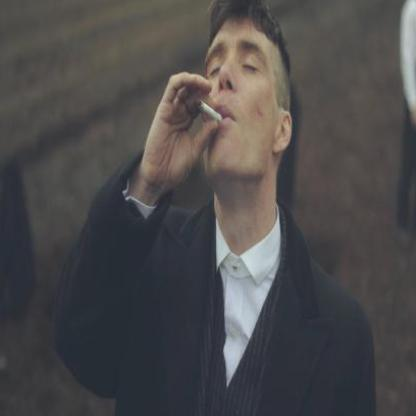cigarette: (197, 98, 224, 122)
person: (119, 0, 372, 415)
